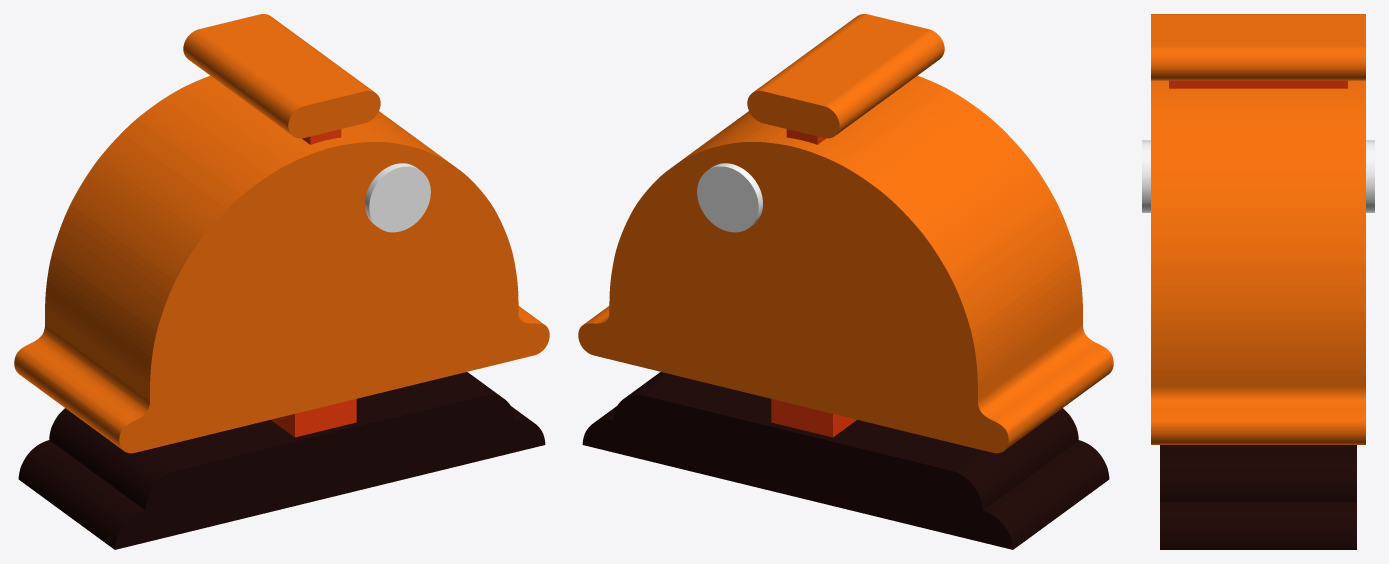
3 renders of one model, left to right at view 1: azimuth 30°, elevation 25°; view 2: azimuth 150°, elevation 25°; view 3: azimuth 270°, elevation 25°, orthographic. The views are drawn at different scales.
Visible parts, largest first — view 1: U+1F6CE_layer02_obj00, U+1F6CE_layer01_obj00, U+1F6CE_layer03_obj00, U+1F6CE_layer00_obj00; view 2: U+1F6CE_layer02_obj00, U+1F6CE_layer01_obj00, U+1F6CE_layer03_obj00, U+1F6CE_layer00_obj00; view 3: U+1F6CE_layer02_obj00, U+1F6CE_layer01_obj00, U+1F6CE_layer00_obj00, U+1F6CE_layer03_obj00.
Boxes of the visible parts, bbox=[...] form: U+1F6CE_layer02_obj00: bbox=[14, 14, 549, 453]; U+1F6CE_layer01_obj00: bbox=[18, 372, 545, 549]; U+1F6CE_layer03_obj00: bbox=[365, 163, 430, 232]; U+1F6CE_layer00_obj00: bbox=[271, 129, 356, 437]; U+1F6CE_layer02_obj00: bbox=[578, 14, 1113, 453]; U+1F6CE_layer01_obj00: bbox=[582, 372, 1109, 549]; U+1F6CE_layer03_obj00: bbox=[697, 163, 762, 232]; U+1F6CE_layer00_obj00: bbox=[771, 129, 856, 437]; U+1F6CE_layer02_obj00: bbox=[1151, 14, 1365, 444]; U+1F6CE_layer01_obj00: bbox=[1160, 445, 1356, 549]; U+1F6CE_layer00_obj00: bbox=[1169, 80, 1347, 88]; U+1F6CE_layer03_obj00: bbox=[1142, 140, 1374, 212].
Bounding box in the file's own units: 0.5678 × 0.5068 × 0.26.
